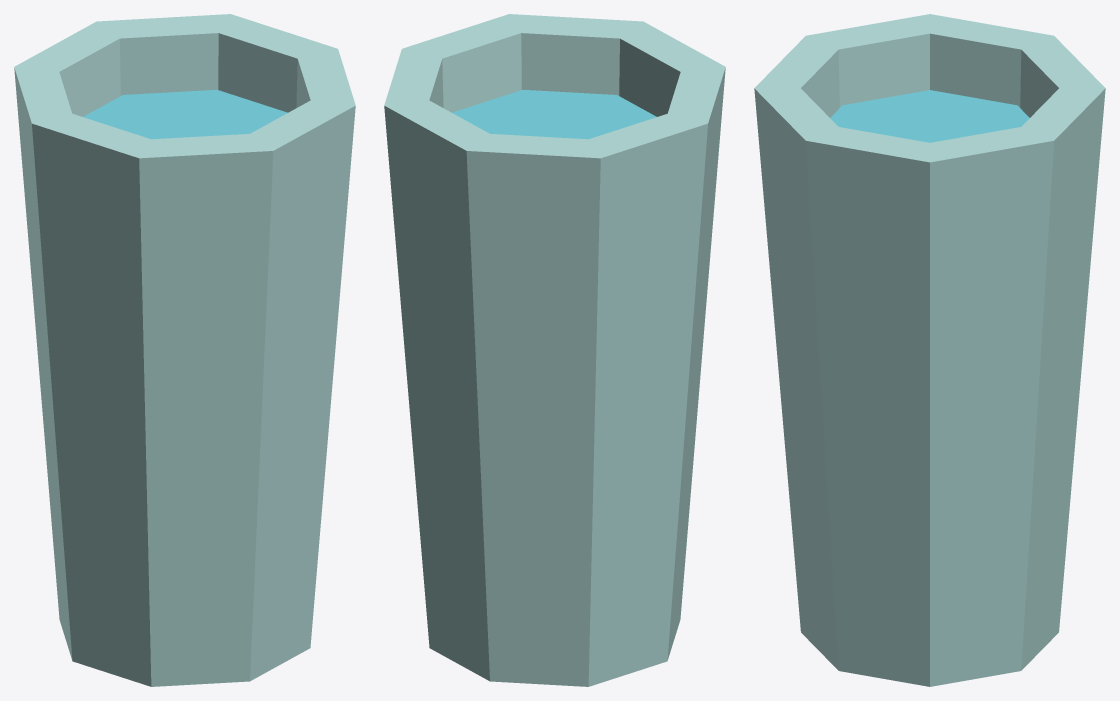
The model's file is glass_full.fbx.
3 views of the same model, side by side, from view 1: azimuth 30°, elevation 25°; view 2: azimuth 150°, elevation 25°; view 3: azimuth 270°, elevation 25° (orthographic).
Parts seen in each view (by area): view 1: glass_full; view 2: glass_full; view 3: glass_full.
Boxes of the visible parts, x1,y1,x2,y2 form: glass_full: (14, 14, 355, 686); glass_full: (384, 14, 725, 686); glass_full: (754, 14, 1105, 686).
Bounding box in the file's own units: 11.7 × 20 × 11.7.
